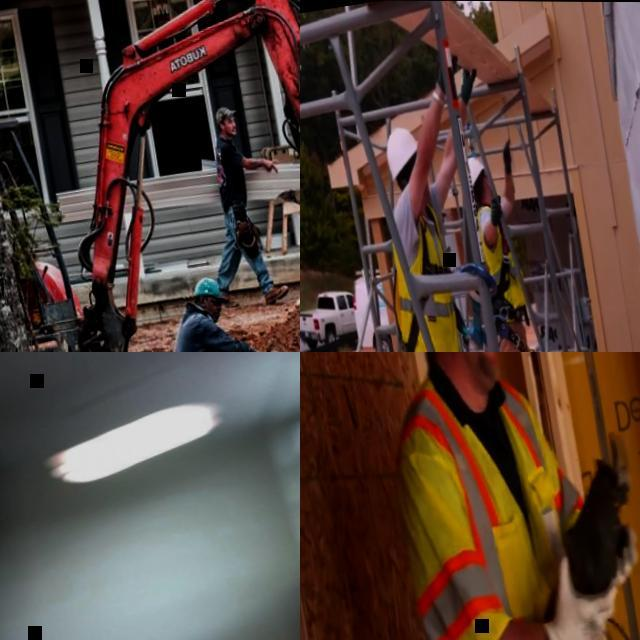helmet: (382, 124, 424, 180), (467, 153, 486, 183)
vest: (376, 352, 621, 640), (372, 199, 466, 352), (474, 200, 530, 320)
